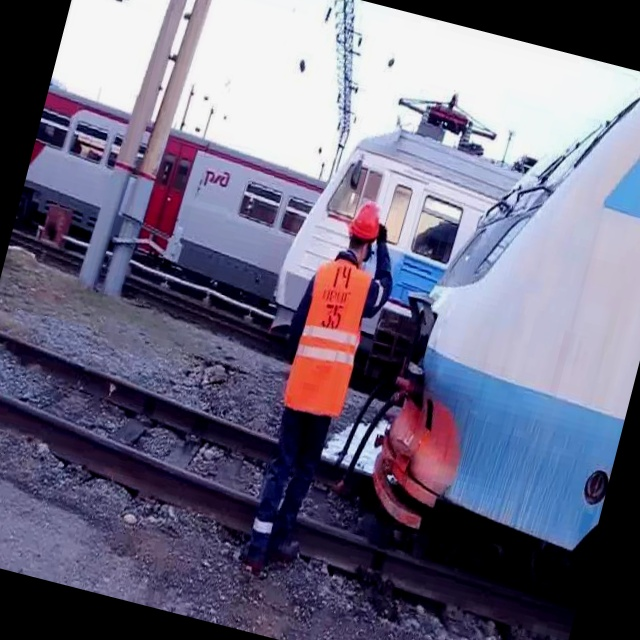boots: (294, 518, 338, 586)
gloves: (336, 205, 384, 240)
helmet: (324, 195, 357, 232)
vest: (303, 254, 367, 418)
